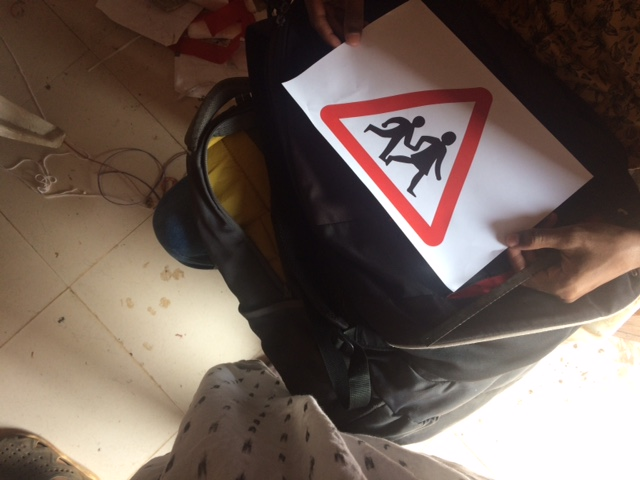sign: (319, 84, 493, 243)
